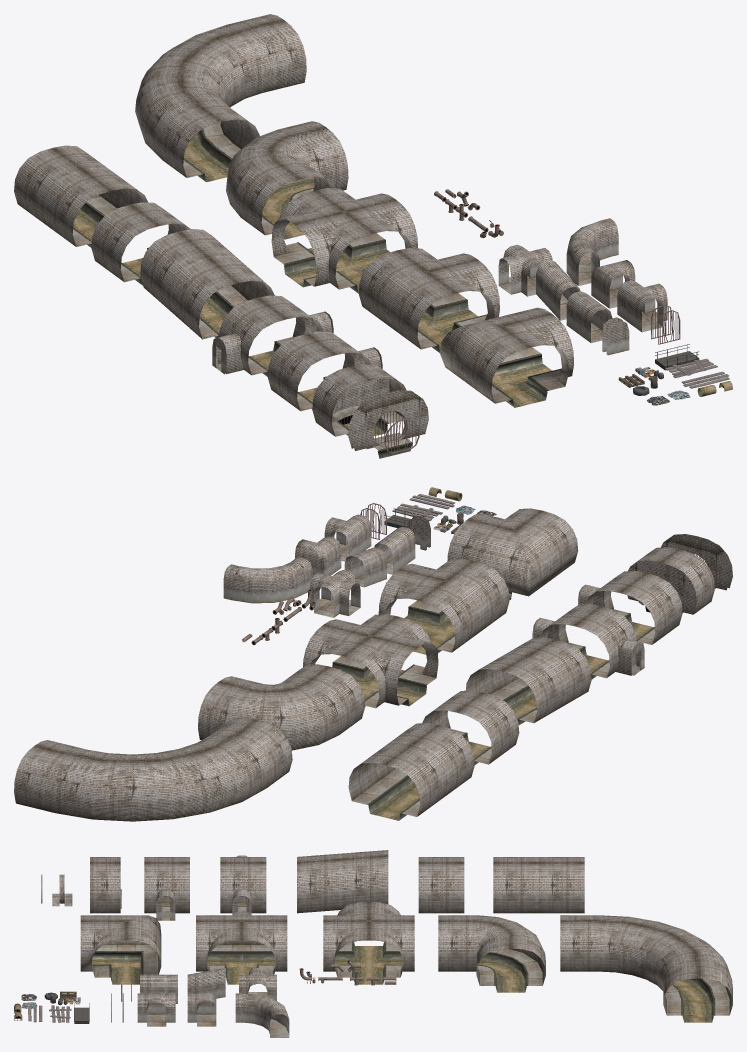
The model's file is Sewers.fbx.
The picture shows the model from 3 angles, top to bottom: view 1: azimuth 30°, elevation 25°; view 2: azimuth 150°, elevation 25°; view 3: azimuth 270°, elevation 25°; orthographic projection. The views are drawn at different scales.
Visible parts, largest first — view 1: Sewers_11, Sewers_09, Sewers_08, Sewers_07, Sewers_10, Sewers_02, Sewers, Sewers_03, Sewers_04, Sewers_05, Sewers_01, Sewers_06 (+6 smaller); view 2: Sewers_11, Sewers_10, Sewers, Sewers_09, Sewers_08, Sewers_07, Sewers_02, Sewers_03, Sewers_04, Sewers_01, Sewers_17, Sewers_05 (+6 smaller); view 3: Sewers_11, Sewers_10, Sewers_09, Sewers_08, Sewers, Sewers_07, Sewers_02, Sewers_04, Sewers_03, Sewers_01, Sewers_05, Sewers_17 (+6 smaller).
Boxes of the visible parts, x1,y1,x2,y2 form: Sewers_11: (135,14,306,182); Sewers_09: (271,188,417,293); Sewers_08: (358,248,499,352); Sewers_07: (440,307,573,407); Sewers_10: (226,121,348,239); Sewers_02: (140,229,274,339); Sewers: (14,145,148,247); Sewers_03: (212,295,333,376); Sewers_04: (267,331,382,411); Sewers_05: (312,364,406,436); Sewers_01: (91,202,190,285); Sewers_06: (348,390,428,458); Sewers_11: (14,717,292,821); Sewers_10: (198,664,365,750); Sewers: (348,723,474,820); Sewers_09: (303,614,438,708); Sewers_08: (378,558,509,654); Sewers_07: (447,508,578,599); Sewers_02: (466,637,591,724); Sewers_03: (532,604,644,679); Sewers_04: (578,571,682,644); Sewers_01: (422,690,519,764); Sewers_17: (223,557,312,603); Sewers_05: (627,547,714,614); Sewers_11: (560,915,732,1022); Sewers_10: (438,915,545,992); Sewers_09: (323,902,414,984); Sewers_08: (196,915,287,984); Sewers: (493,857,584,913); Sewers_07: (80,915,161,984); Sewers_02: (297,850,388,913); Sewers_04: (144,857,189,920); Sewers_03: (220,855,266,915); Sewers_01: (418,857,464,913); Sewers_05: (90,857,120,913); Sewers_17: (235,993,289,1037).
Size of the model in its own units: 4927 by 738 by 9437.
